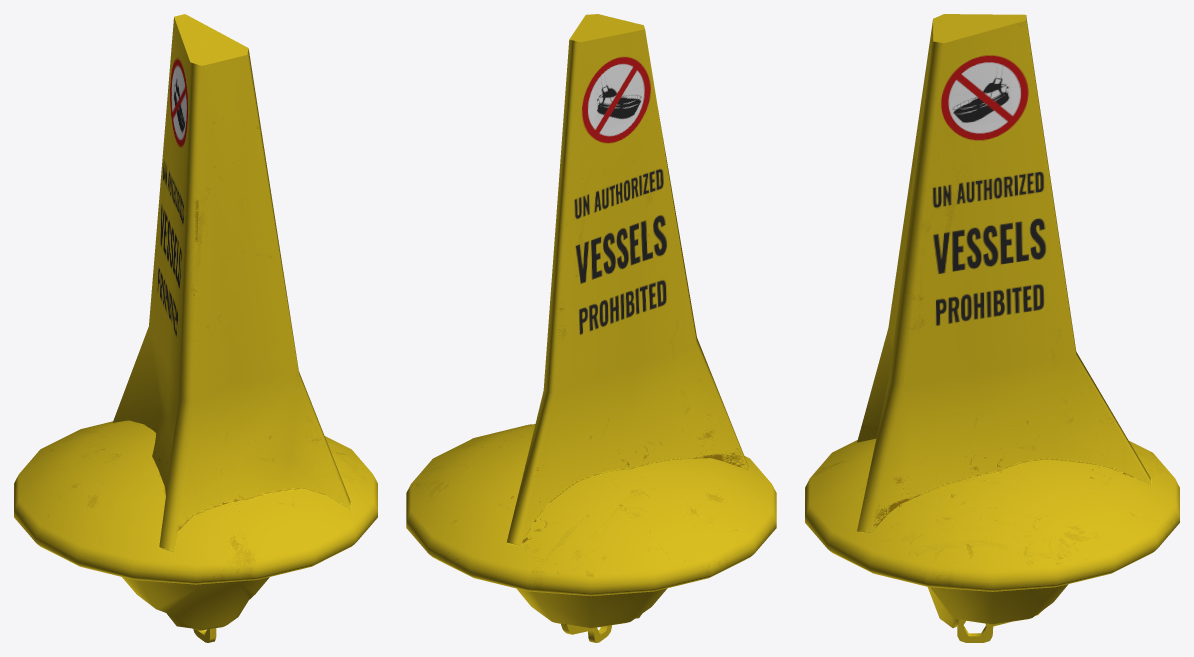
The model's file is mb_marker_buoy.dae.
3 views of the same model, side by side, from view 1: azimuth 30°, elevation 25°; view 2: azimuth 150°, elevation 25°; view 3: azimuth 270°, elevation 25° (orthographic). The views are drawn at different scales.
Parts seen in each view (by area): view 1: BuoyModelFBXASC058BuoyModelFBXASC058polySurface4; view 2: BuoyModelFBXASC058BuoyModelFBXASC058polySurface4; view 3: BuoyModelFBXASC058BuoyModelFBXASC058polySurface4.
Boxes of the visible parts, x1,y1,x2,y2 form: BuoyModelFBXASC058BuoyModelFBXASC058polySurface4: (14,14,377,642); BuoyModelFBXASC058BuoyModelFBXASC058polySurface4: (406,14,776,642); BuoyModelFBXASC058BuoyModelFBXASC058polySurface4: (805,14,1179,642).
Size of the model in its own units: 2.14 by 3.88 by 2.11.
